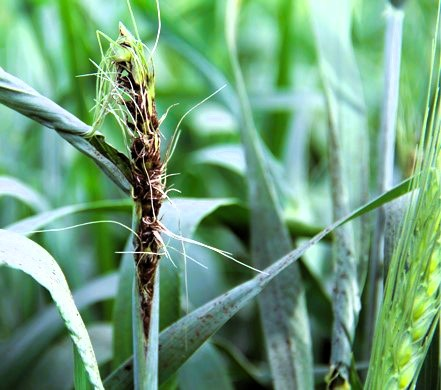Wheat Loose Smut: (109, 43, 178, 238)
